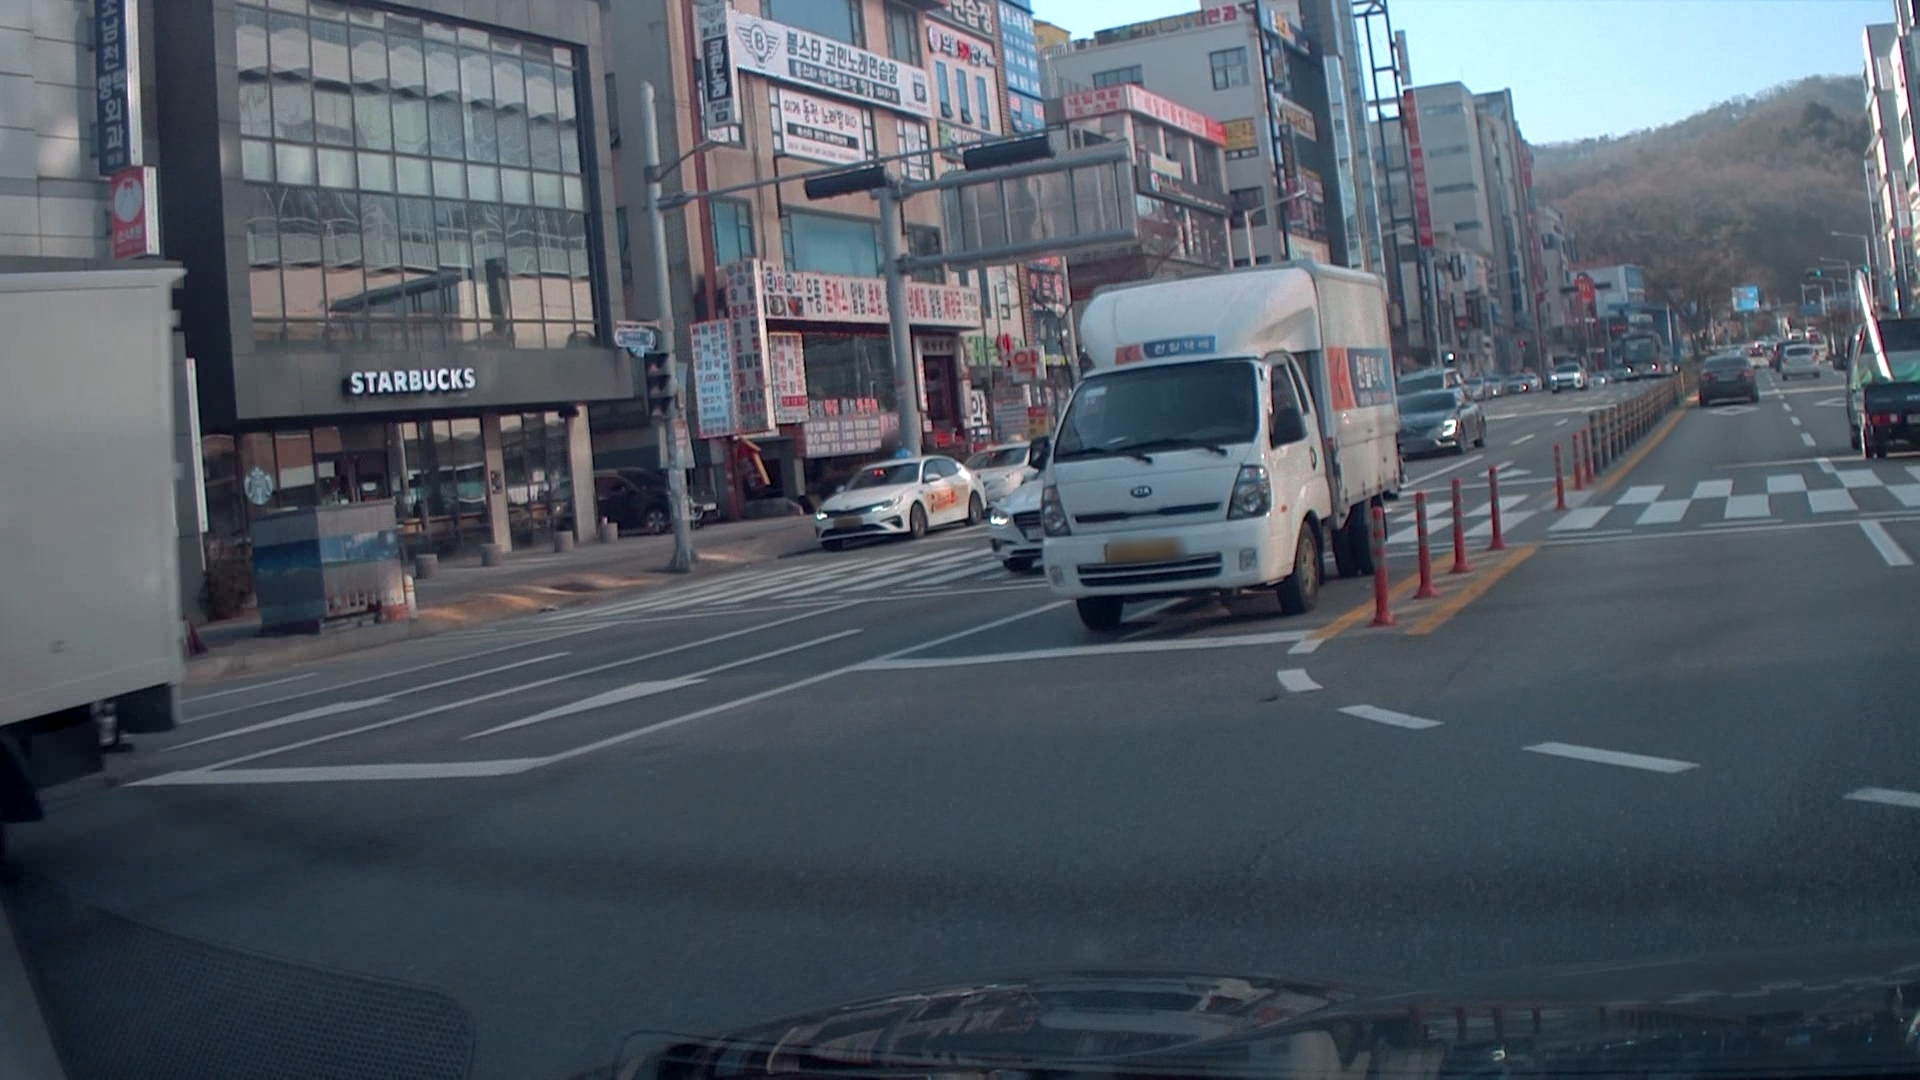trafficLight: (1805, 262, 1876, 280)
